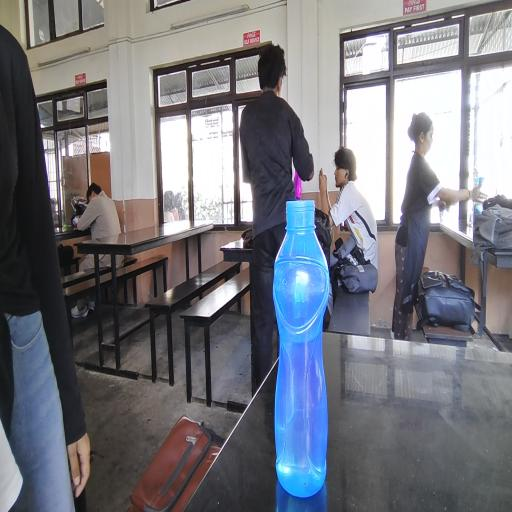Bottle: (280, 204, 347, 494)
